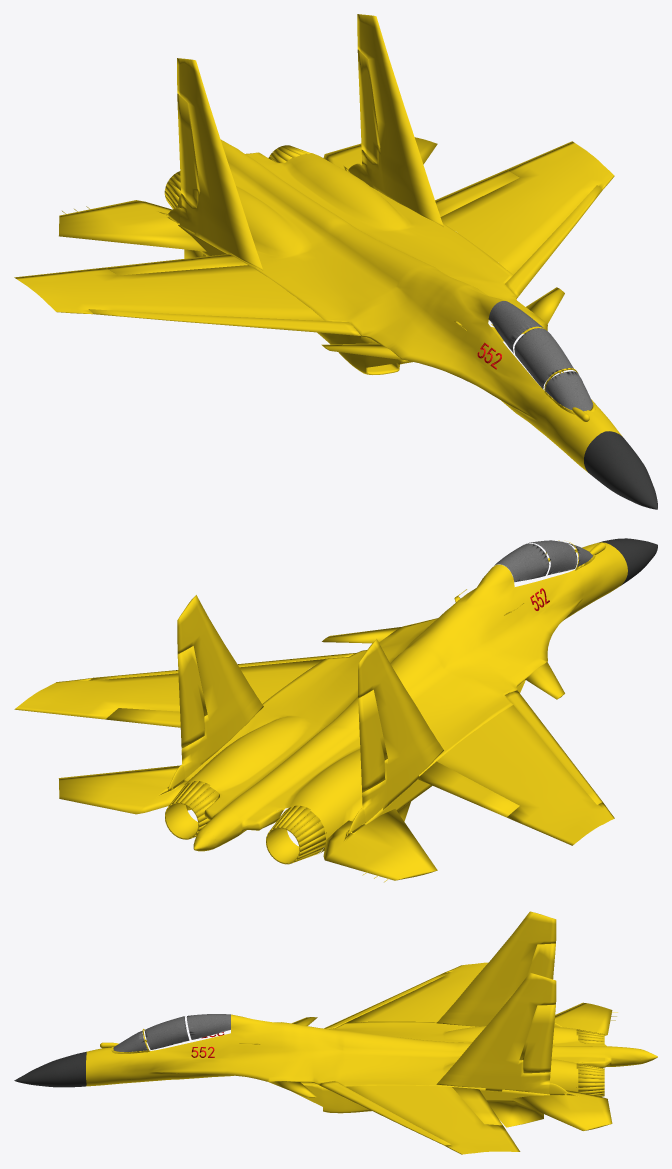
3 views of the same model, one above another, from view 1: azimuth 30°, elevation 25°; view 2: azimuth 150°, elevation 25°; view 3: azimuth 270°, elevation 25° (orthographic). The views are drawn at different scales.
Visible parts, largest first — view 1: Box176; view 2: Box176; view 3: Box176.
Boxes of the visible parts, x1,y1,x2,y2 form: Box176: (14,14,657,509); Box176: (14,538,657,882); Box176: (14,911,657,1154).
Size of the model in its own units: 15.44 by 5.87 by 22.19.
Materials: 4 (4 with a texture image).
